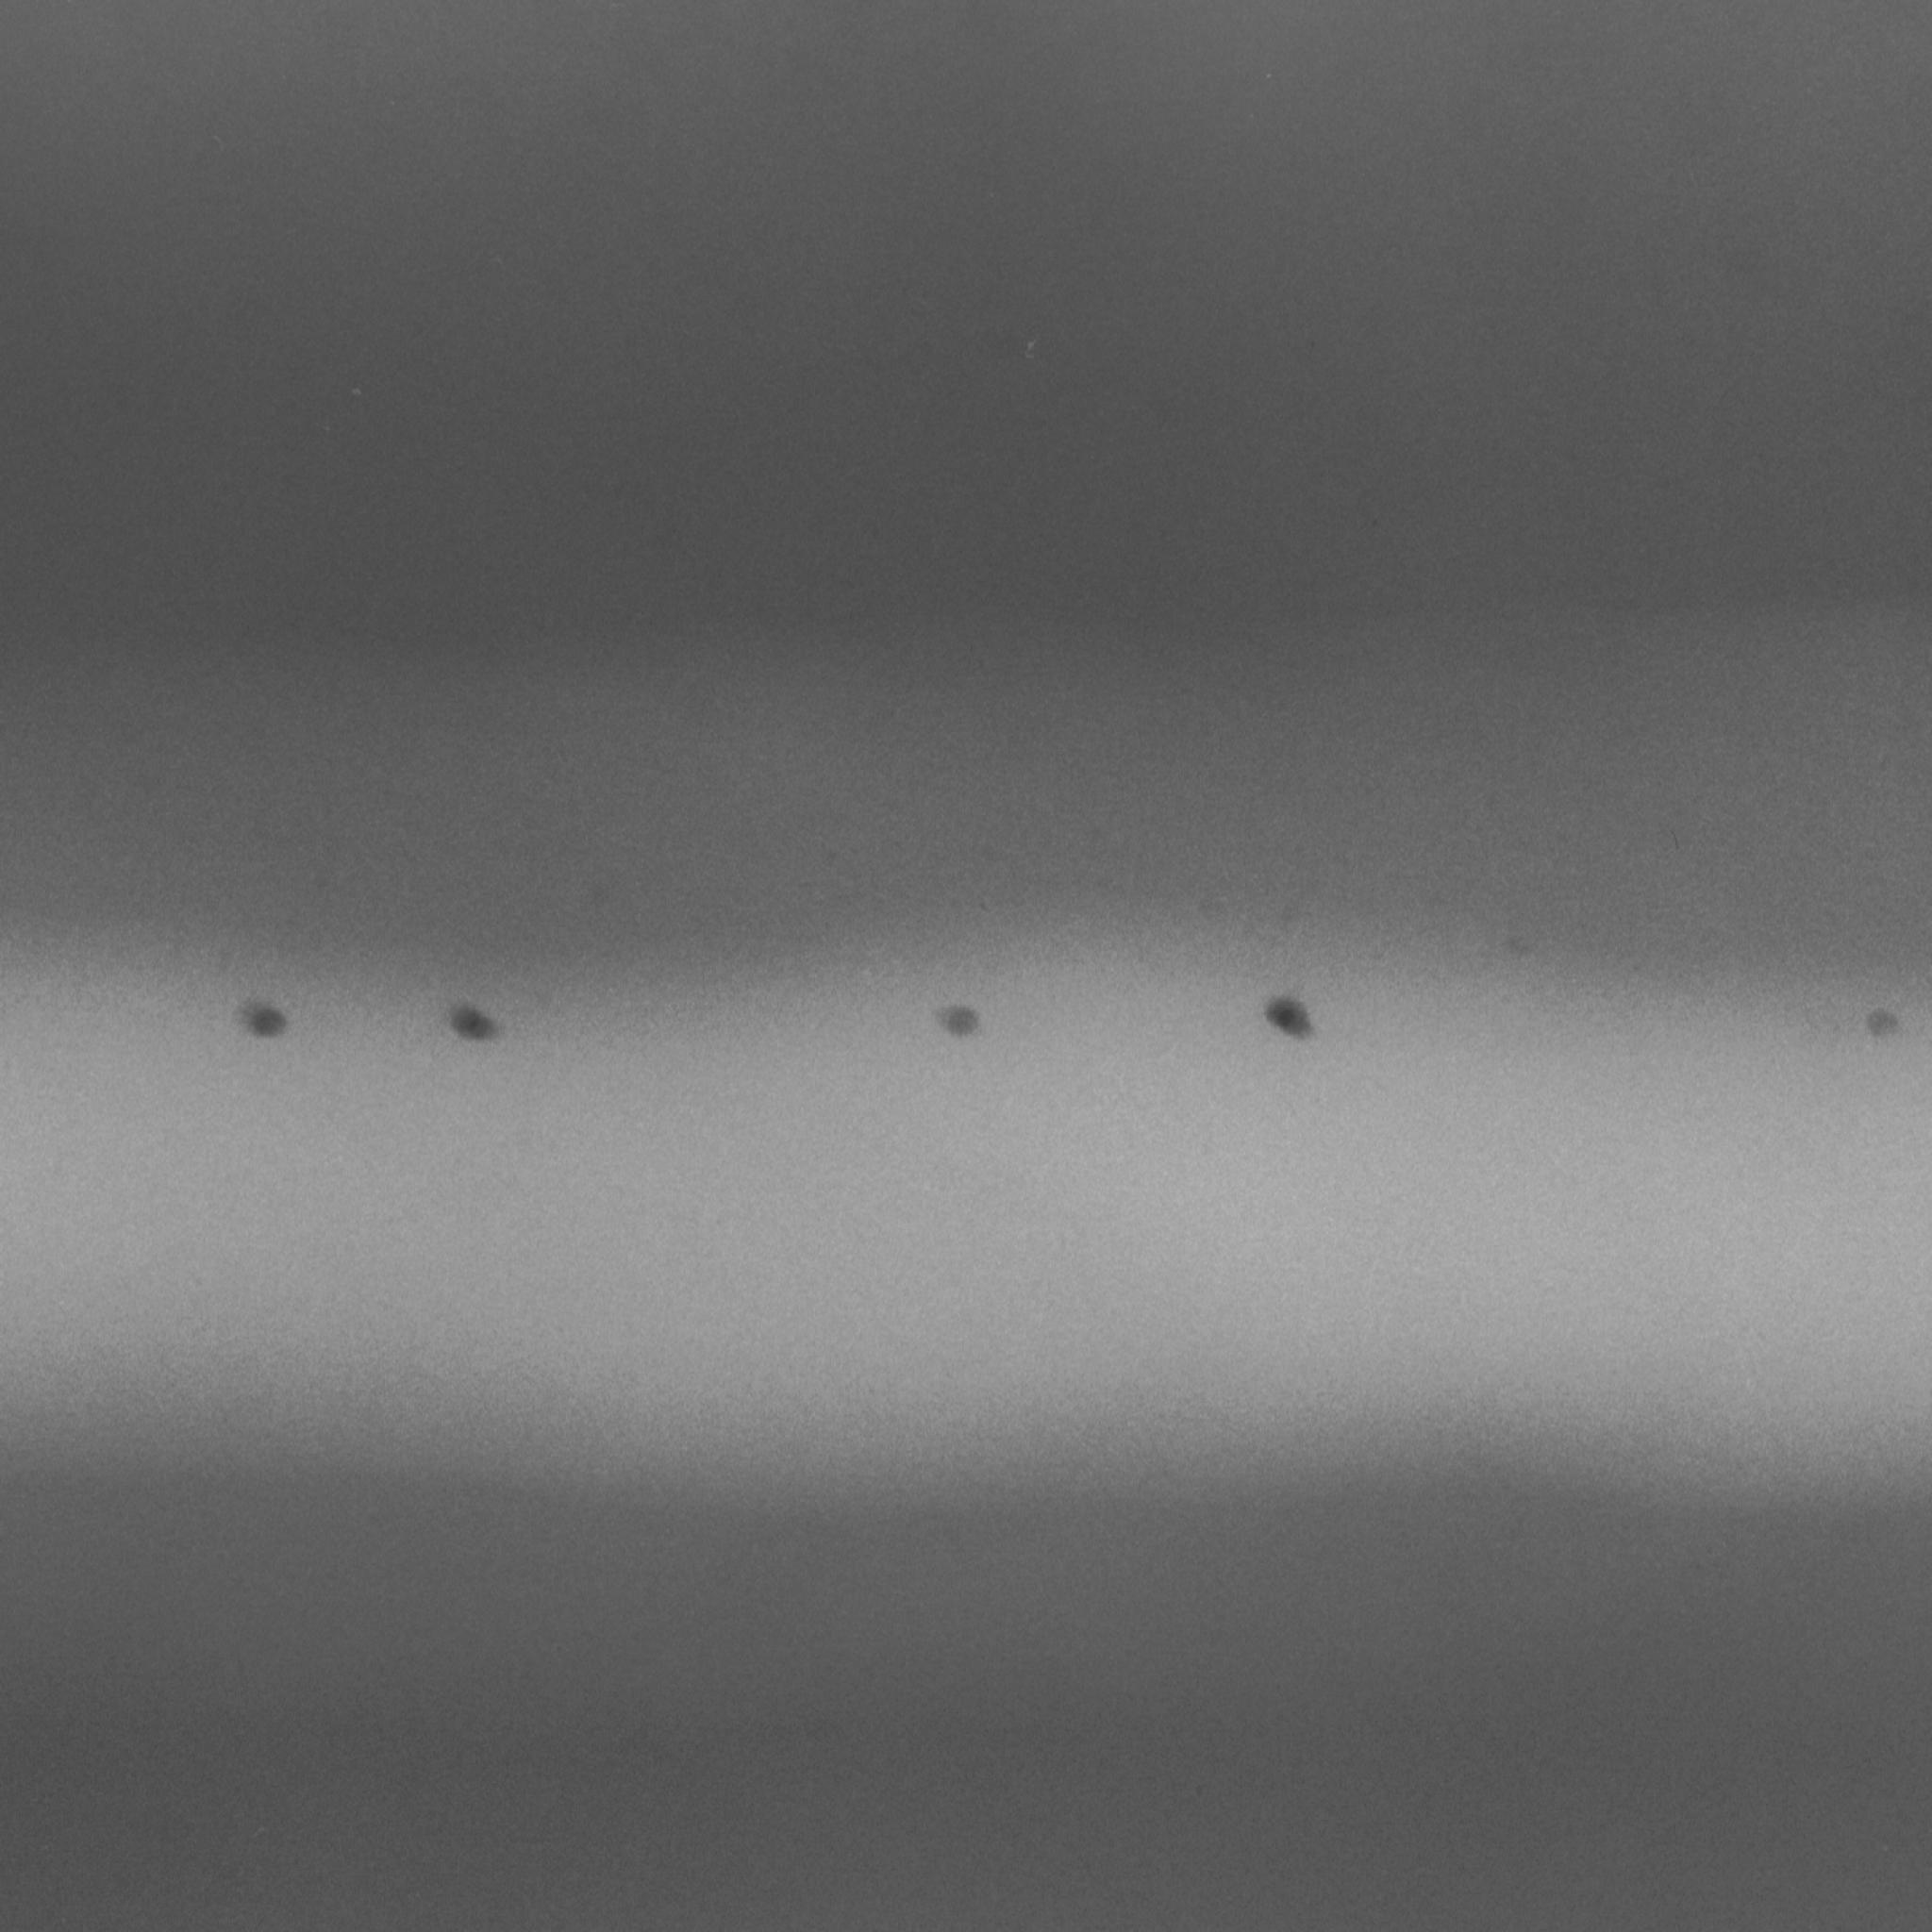PO: (424, 974, 509, 1070), (218, 975, 307, 1065), (1247, 977, 1341, 1060), (916, 983, 1003, 1061), (571, 856, 638, 940), (1852, 989, 1922, 1062), (1499, 925, 1545, 968)
